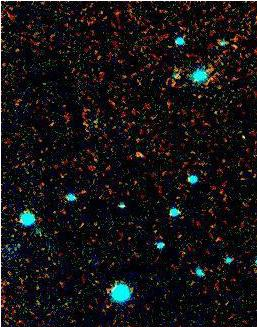star: (121, 138, 151, 168)
